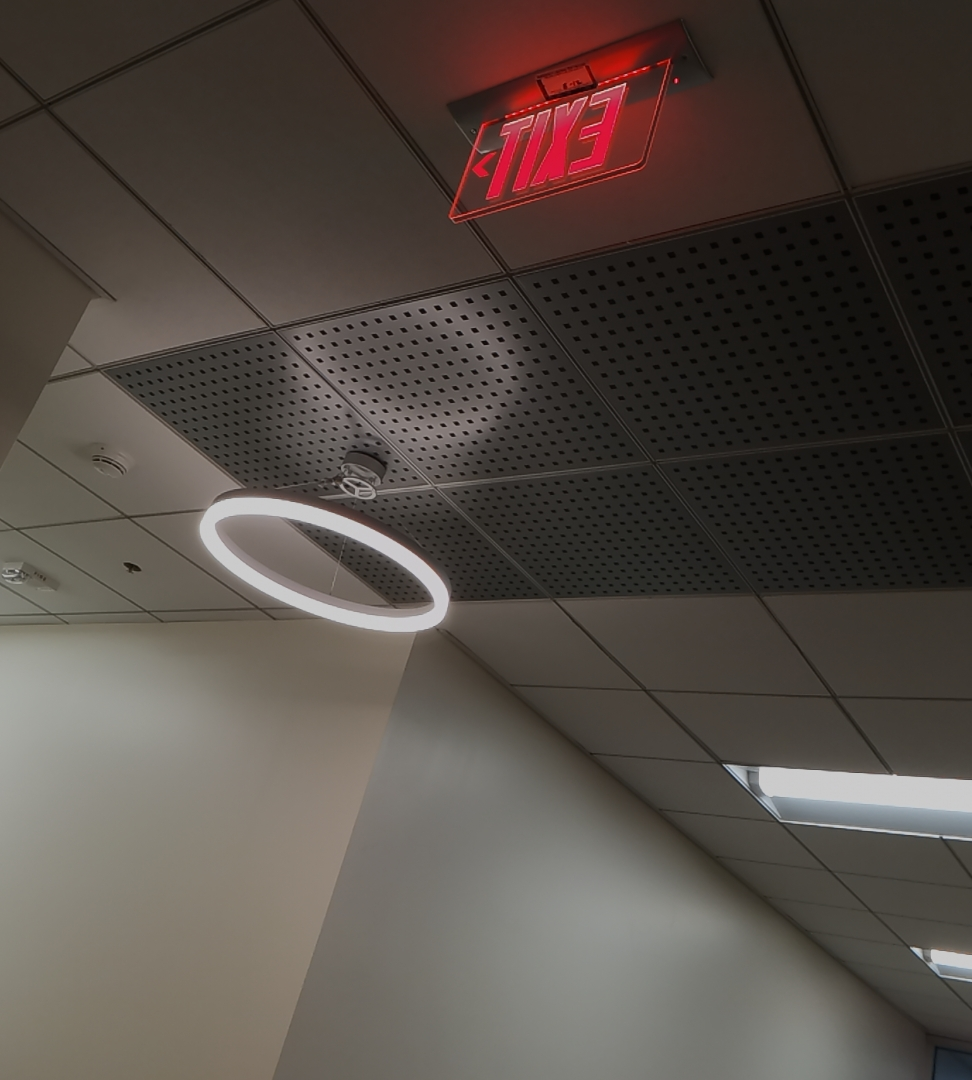emergency_exit: (443, 19, 711, 225)
